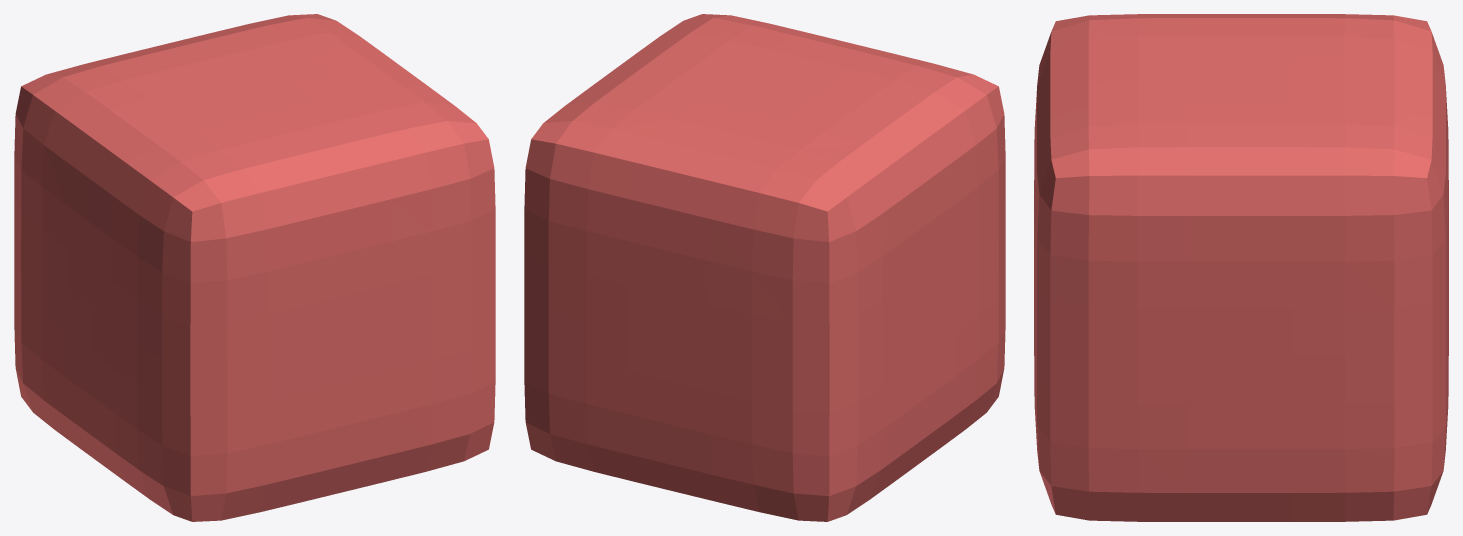
3 renders of one model, left to right at view 1: azimuth 30°, elevation 25°; view 2: azimuth 150°, elevation 25°; view 3: azimuth 270°, elevation 25°, orthographic. The views are drawn at different scales.
Parts seen in each view (by area): view 1: Cube; view 2: Cube; view 3: Cube.
Boxes of the visible parts, x1,y1,x2,y2 form: Cube: [14, 14, 495, 521]; Cube: [524, 14, 1005, 521]; Cube: [1034, 14, 1448, 521].
Bounding box in the file's own units: 2 × 2 × 2.
